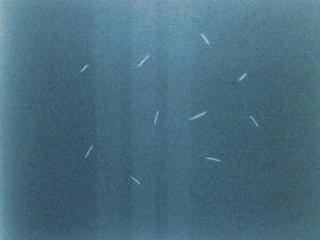scratch: (181, 108, 209, 123), (136, 51, 153, 71), (151, 103, 164, 127), (244, 112, 260, 129), (126, 172, 143, 187), (82, 144, 94, 162), (198, 32, 210, 47), (200, 154, 221, 162), (235, 71, 247, 84), (78, 63, 90, 75)
